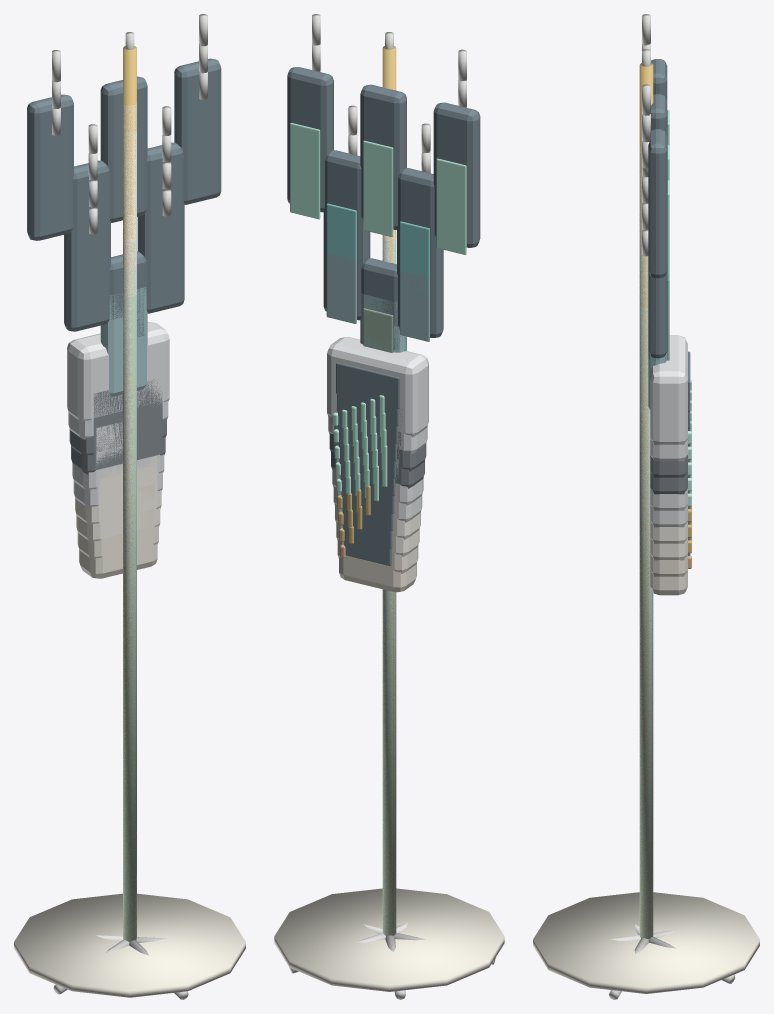
File: Gear18.fbx
3 views of the same model, side by side, from view 1: azimuth 30°, elevation 25°; view 2: azimuth 150°, elevation 25°; view 3: azimuth 270°, elevation 25° (orthographic). The views are drawn at different scales.
Parts seen in each view (by area): view 1: Gear18_V1_Ivory, Gear18_V10_Glass, Gear18_V8_Glass, Gear18_V1_Sage, Gear18_V4_Glass, Gear18_V10_Gold, Gear18_V10_Platinum, Gear18_V5_Glass, Gear18_V9_Glass, Gear18_V2_Blue, Gear18_V7_Glass, Gear18_V4_Chrome (+18 smaller); view 2: Gear18_V1_Ivory, Gear18_V10_Glass, Gear18_V10_Glow, Gear18_V10_Platinum, Gear18_V8_Glow, Gear18_V1_Sage, Gear18_V7_Glass, Gear18_V9_Glow, Gear18_V8_Glass, Gear18_V9_Glass, Gear18_V4_Glass, Gear18_V6_Glass (+26 smaller); view 3: Gear18_V1_Ivory, Gear18_V1_Sage, Gear18_V10_Gold, Gear18_V10_Platinum, Gear18_V10_Glass, Gear18_V3_Blue, Gear18_V4_Chrome, Gear18_V4_Glass, Gear18_V8_Glass, Gear18_V2_Blue, Gear18_V6_Chrome, Gear18_V8_Chrome (+12 smaller).
Boxes of the visible parts, x1,y1,x2,y2 form: Gear18_V1_Ivory: (14,516,245,997); Gear18_V10_Glass: (27,58,221,186); Gear18_V8_Glass: (27,120,221,240); Gear18_V1_Sage: (123,295,136,941); Gear18_V4_Glass: (64,228,184,331); Gear18_V10_Gold: (123,46,136,941); Gear18_V10_Platinum: (67,322,169,422); Gear18_V5_Glass: (64,202,184,302); Gear18_V9_Glass: (27,95,221,211); Gear18_V2_Blue: (101,267,147,941); Gear18_V7_Glass: (64,142,184,250); Gear18_V4_Chrome: (57,190,188,998); Gear18_V1_Ivory: (274,530,504,991); Gear18_V10_Glass: (287,67,480,408); Gear18_V10_Glow: (290,123,466,436); Gear18_V10_Platinum: (327,337,428,437); Gear18_V8_Glow: (290,172,466,469); Gear18_V1_Sage: (382,590,396,935); Gear18_V7_Glass: (323,150,443,461); Gear18_V9_Glow: (290,148,466,453); Gear18_V8_Glass: (287,126,480,443); Gear18_V9_Glass: (287,104,480,426); Gear18_V4_Glass: (323,234,443,513); Gear18_V6_Glass: (323,185,443,478); Gear18_V1_Ivory: (533,570,759,993); Gear18_V1_Sage: (639,306,653,938); Gear18_V10_Gold: (639,63,653,938); Gear18_V10_Platinum: (650,335,687,444); Gear18_V10_Glass: (648,59,690,411); Gear18_V3_Blue: (639,254,653,937); Gear18_V4_Chrome: (610,226,735,999); Gear18_V4_Glass: (648,279,690,508); Gear18_V8_Glass: (648,200,690,445); Gear18_V2_Blue: (639,281,669,938); Gear18_V6_Chrome: (640,173,652,936); Gear18_V8_Chrome: (639,119,653,926).
Size of the model in its own units: 60 by 265 by 60.
